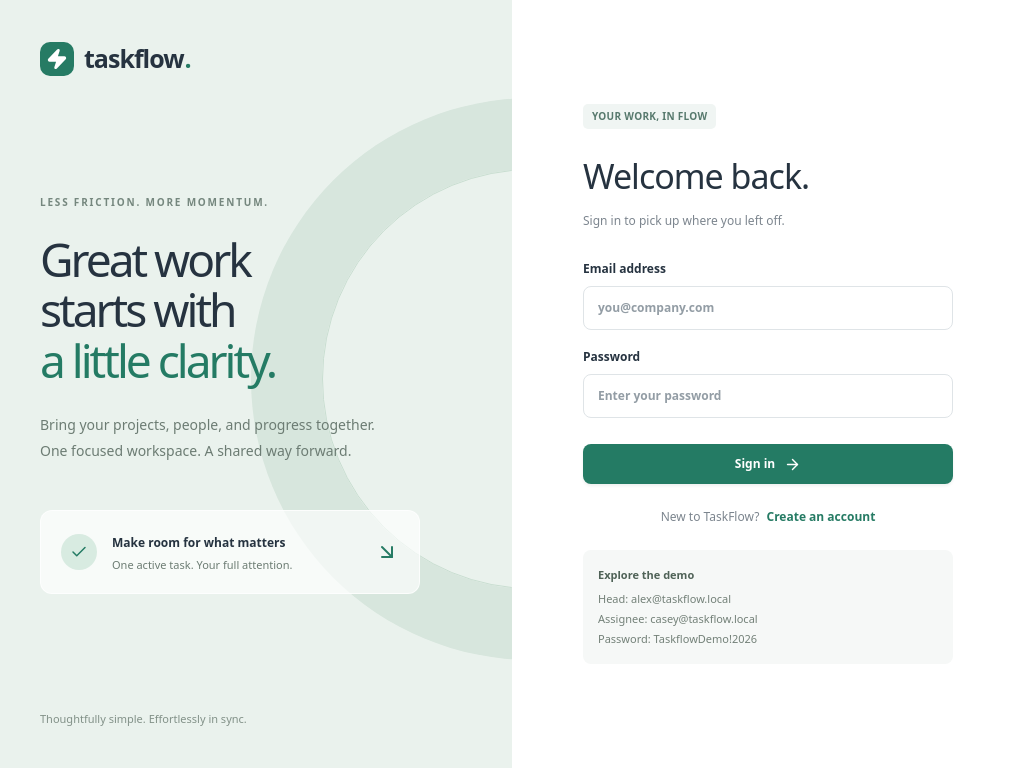
Critical frontend flows › protects routes and presents login errors
Expected: the heading "Welcome back." is shown, [583,153,809,199]
Type "alex@example.test" into the field labelled "Email address".
click(768, 308); type("alex@example.test")  # box [583,286,953,330]
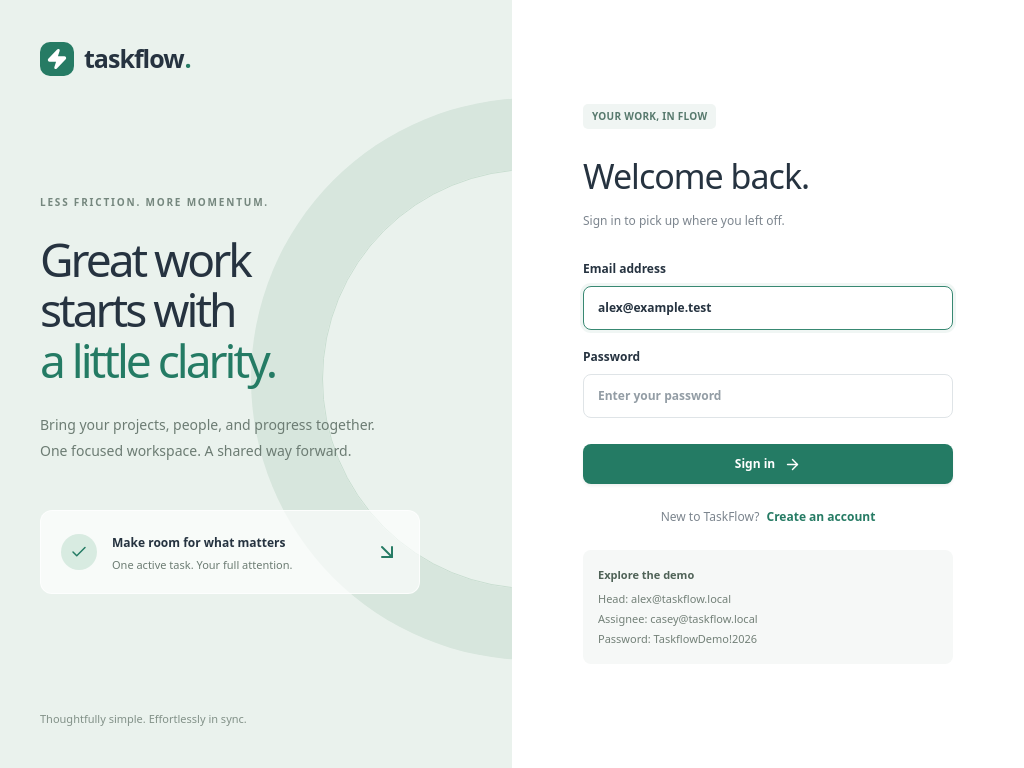
Type "invalid-password" into the password field labelled "Password".
click(768, 396); type("invalid-password")  # box [583,374,953,418]
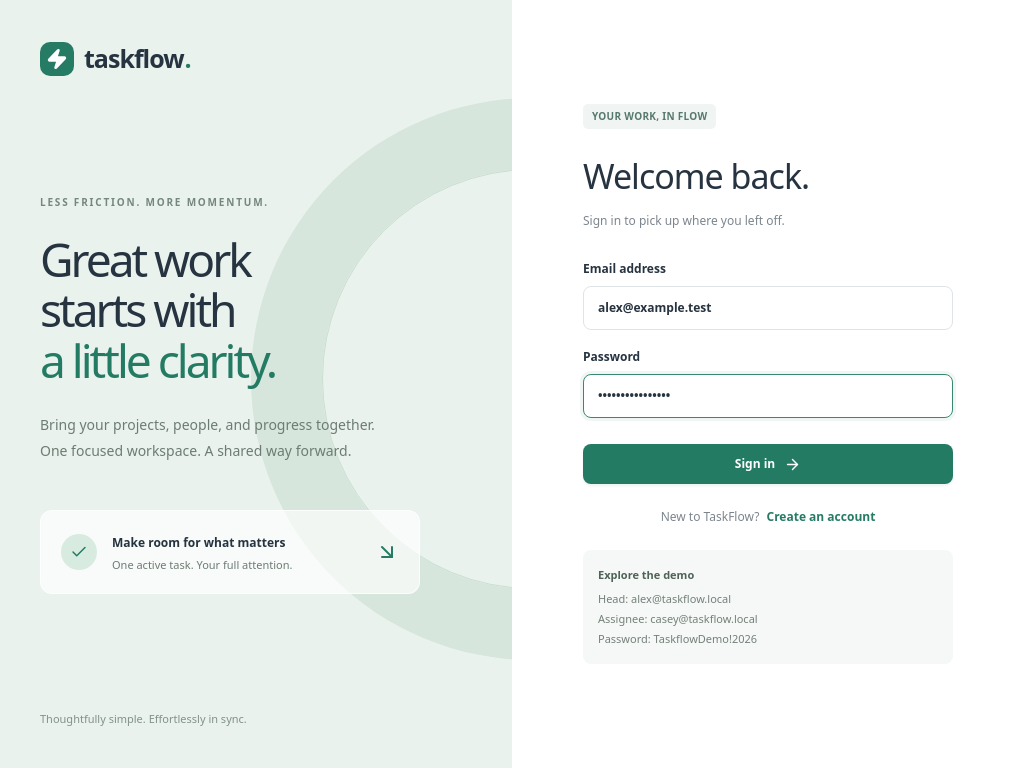
Click the button "Sign in".
click(768, 464)  # box [583,444,953,484]
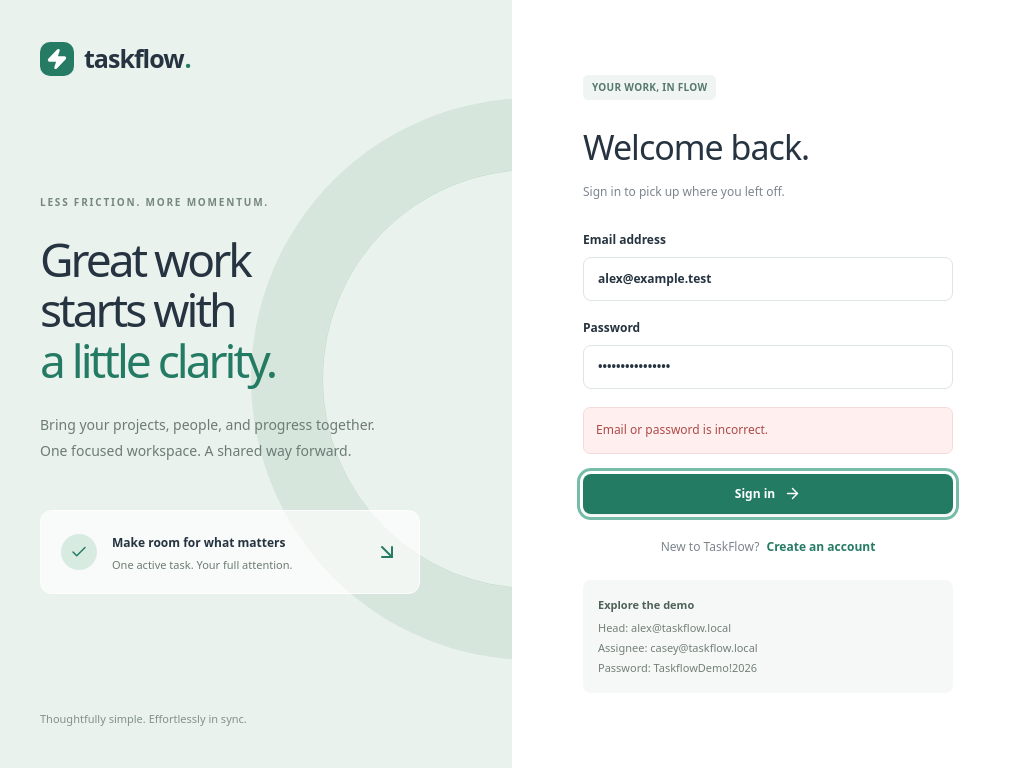
Result: the message shows "incorrect" at [596,421,768,438]
